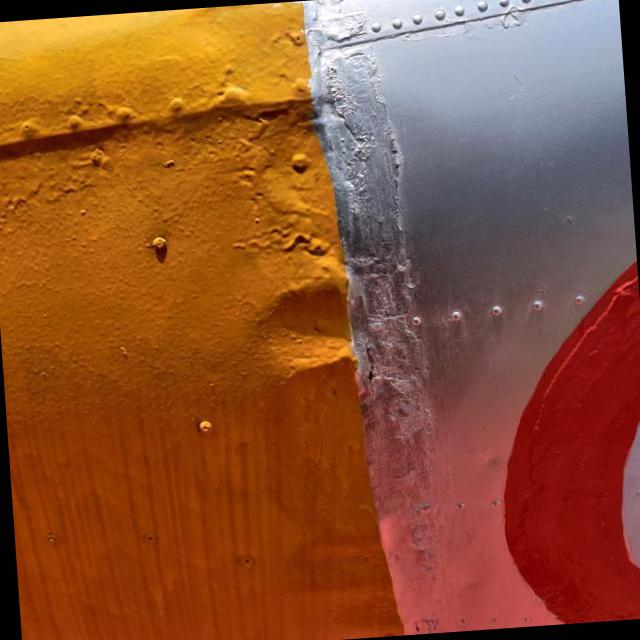dent: (250, 268, 354, 388)
